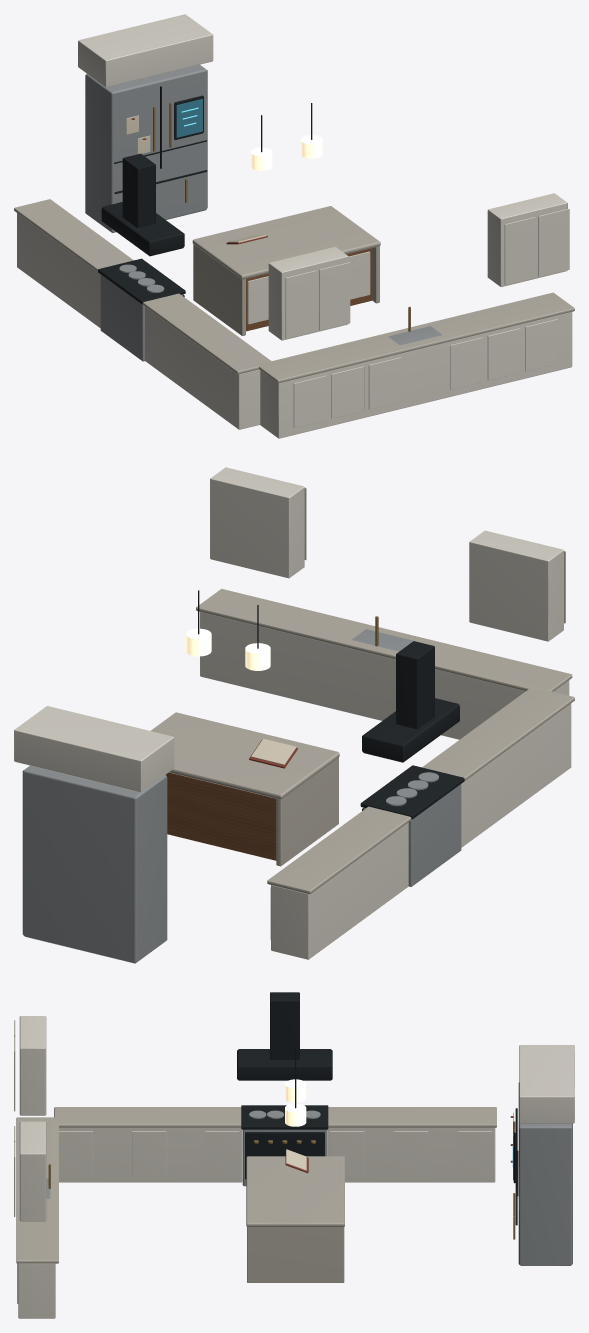
Rendered from kitchen-furniture-v002.glb.
3 renders of one model, top to bottom at view 1: azimuth 30°, elevation 25°; view 2: azimuth 150°, elevation 25°; view 3: azimuth 270°, elevation 25°, orthographic. The views are drawn at different scales.
Parts seen in each view (by area): view 1: Export North base cabinets.002; view 2: Export North base cabinets.002; view 3: Export North base cabinets.002.
Part boxes in pixels (x1,y1,x2,y2): Export North base cabinets.002: [14, 14, 574, 438]; Export North base cabinets.002: [14, 467, 574, 963]; Export North base cabinets.002: [14, 992, 574, 1318].
Bounding box in the file's own units: 5.11 × 2.94 × 7.85.
Materials: 11 (1 with a texture image).
